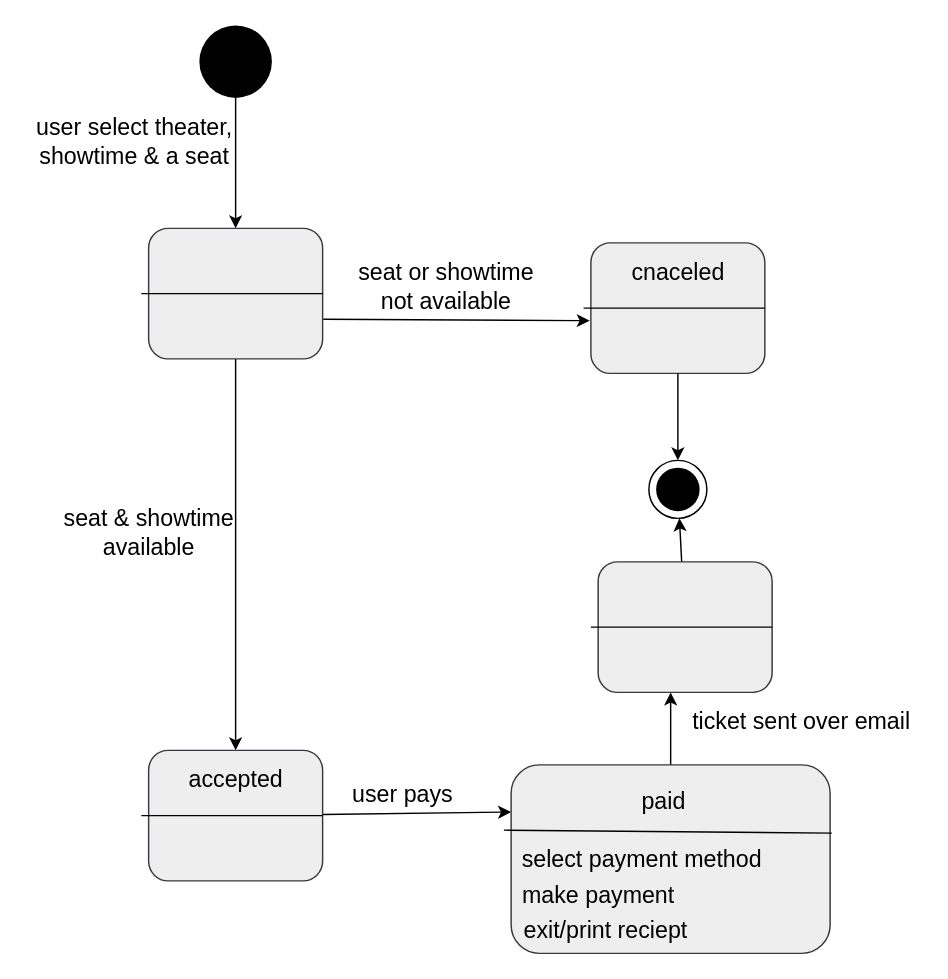
Image size: 948x979. Some labels were removed from this diagram. The shapes that lost their labels are listed below. From the top down, each one's centre as x and y in pixels, then its label:
At (235,293): "created".
At (684,626): "confirmed".
